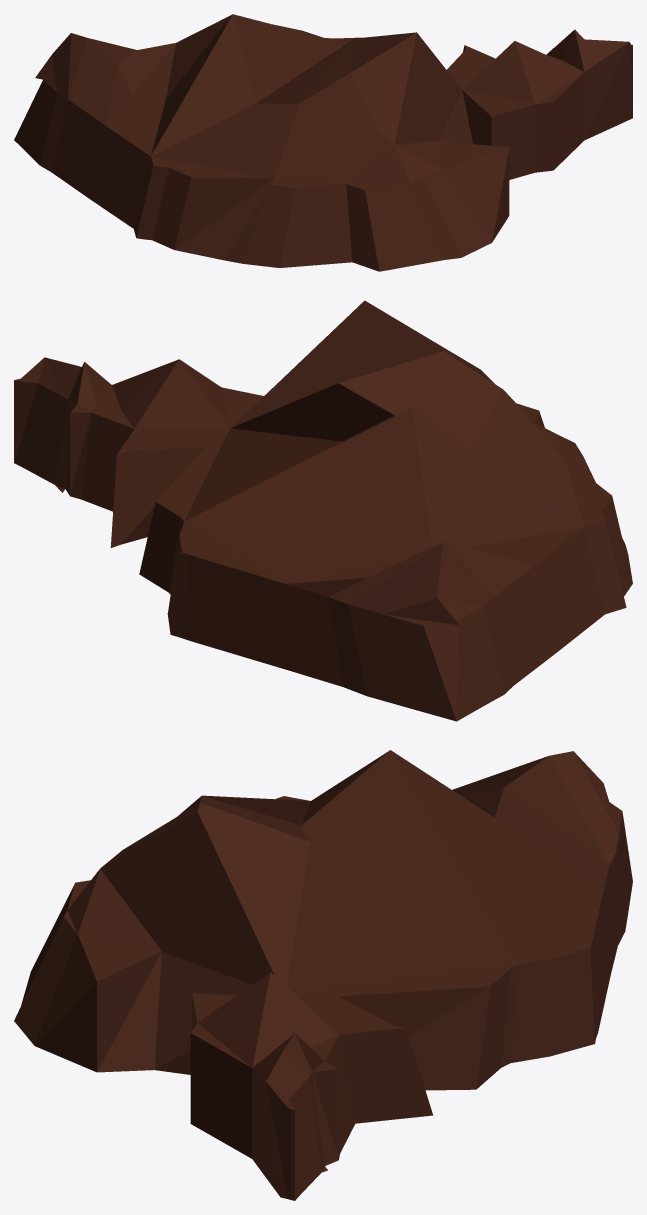
File: Hill_5_Tiled_Cup.fbx
3 views of the same model, one above another, from view 1: azimuth 30°, elevation 25°; view 2: azimuth 150°, elevation 25°; view 3: azimuth 270°, elevation 25° (orthographic). The views are drawn at different scales.
Parts seen in each view (by area): view 1: Rock_5_Cup; view 2: Rock_5_Cup; view 3: Rock_5_Cup.
Boxes of the visible parts, bbox=[...] form: Rock_5_Cup: bbox=[14, 14, 632, 271]; Rock_5_Cup: bbox=[14, 300, 632, 721]; Rock_5_Cup: bbox=[14, 750, 632, 1200].
Bounding box in the file's own units: 1225 × 401 × 986.
